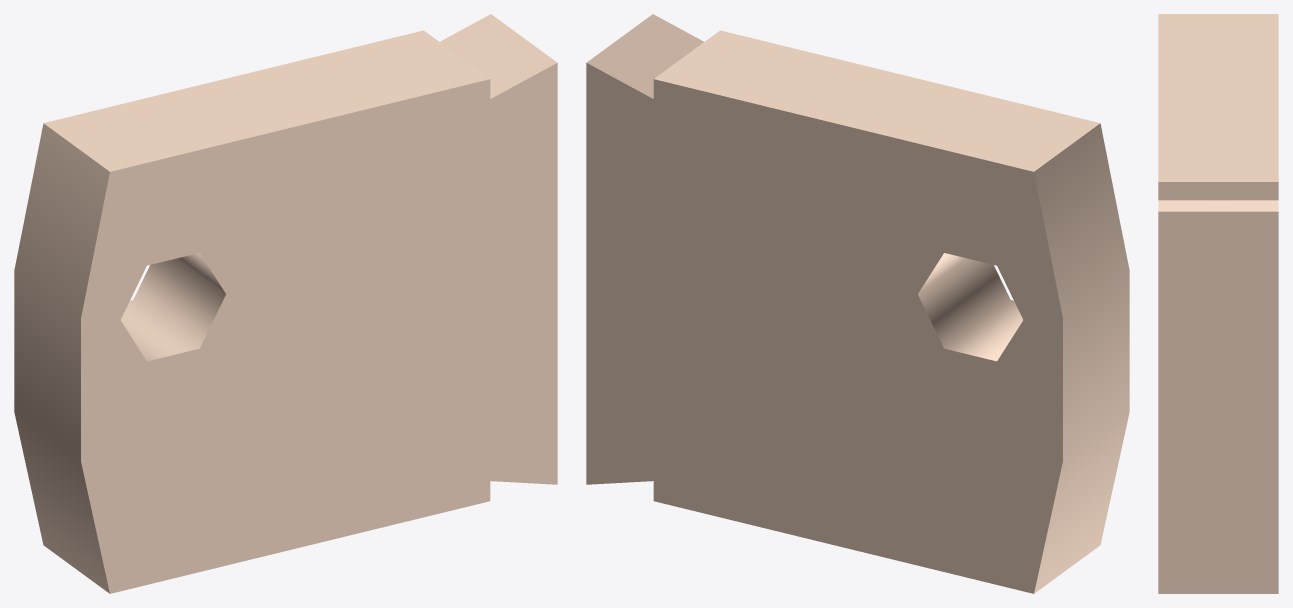
File: Pont Grande moyenne arriere.obj
The picture shows the model from 3 angles, left to right: view 1: azimuth 30°, elevation 25°; view 2: azimuth 150°, elevation 25°; view 3: azimuth 270°, elevation 25°; orthographic projection. The views are drawn at different scales.
Parts seen in each view (by area): view 1: Face_10, Face_7, Face_8, Face_11, Face_2; view 2: Face_9, Face_7, Face_8, Face_11, Face_2; view 3: Face_3, Face_8, Face_1, Face_2.
Boxes of the visible parts, x1,y1,x2,y2 form: Face_10: (81, 63, 557, 593); Face_7: (14, 123, 109, 593); Face_8: (44, 30, 489, 171); Face_11: (121, 253, 225, 361); Face_2: (440, 14, 557, 98); Face_9: (586, 63, 1062, 593); Face_7: (1034, 123, 1129, 593); Face_8: (654, 30, 1099, 171); Face_11: (918, 253, 1022, 361); Face_2: (586, 14, 703, 98); Face_3: (1158, 211, 1278, 593); Face_8: (1158, 14, 1278, 181); Face_1: (1158, 182, 1278, 200); Face_2: (1158, 200, 1278, 211).
Bounding box in the file's own units: 0.0248 × 0.021 × 0.006.
